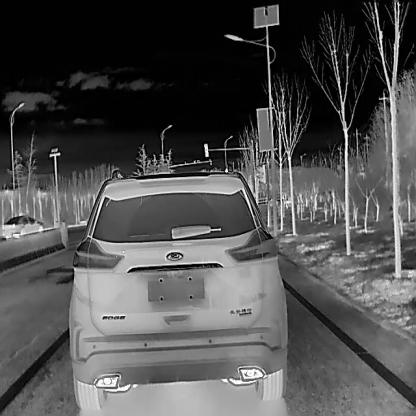car: (66, 162, 289, 411), (0, 213, 44, 239)
